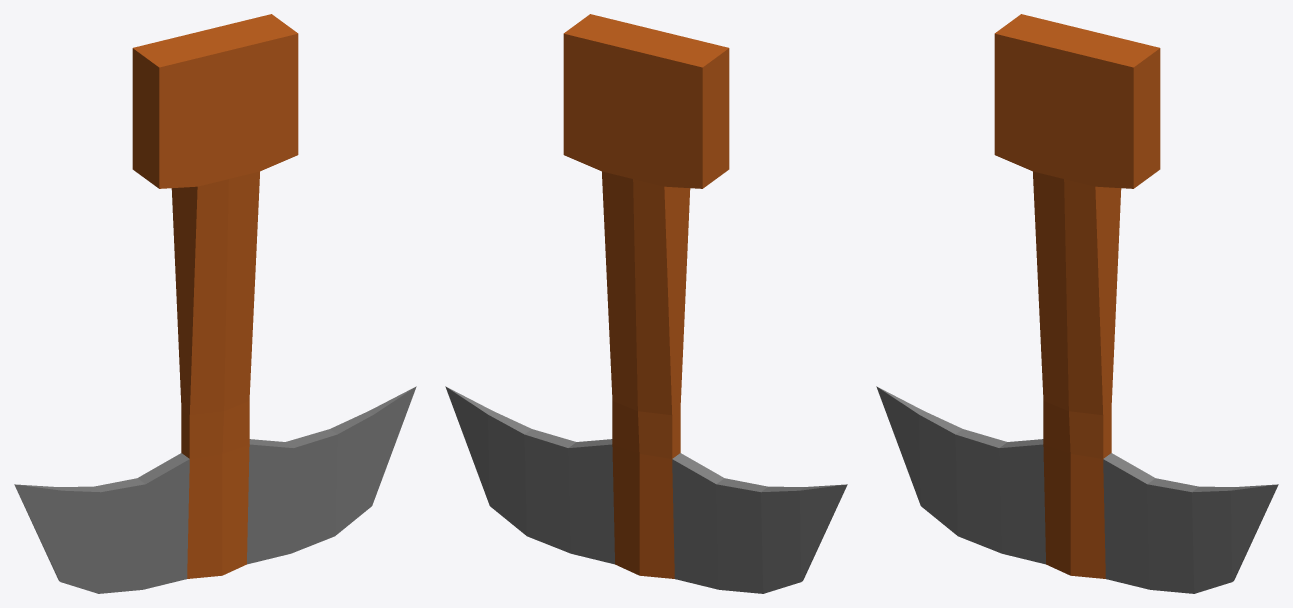
Rendered from EnemyPendulum.fbx.
The picture shows the model from 3 angles, left to right: view 1: azimuth 30°, elevation 25°; view 2: azimuth 150°, elevation 25°; view 3: azimuth 330°, elevation 25°; orthographic projection.
Parts seen in each view (by area): view 1: EnemyPendulum; view 2: EnemyPendulum; view 3: EnemyPendulum.
Boxes of the visible parts, x1=… form: EnemyPendulum: x1=14, y1=14, x2=416, y2=593; EnemyPendulum: x1=445, y1=14, x2=847, y2=593; EnemyPendulum: x1=876, y1=14, x2=1278, y2=593.
Bounding box in the file's own units: 347 × 437 × 40.
